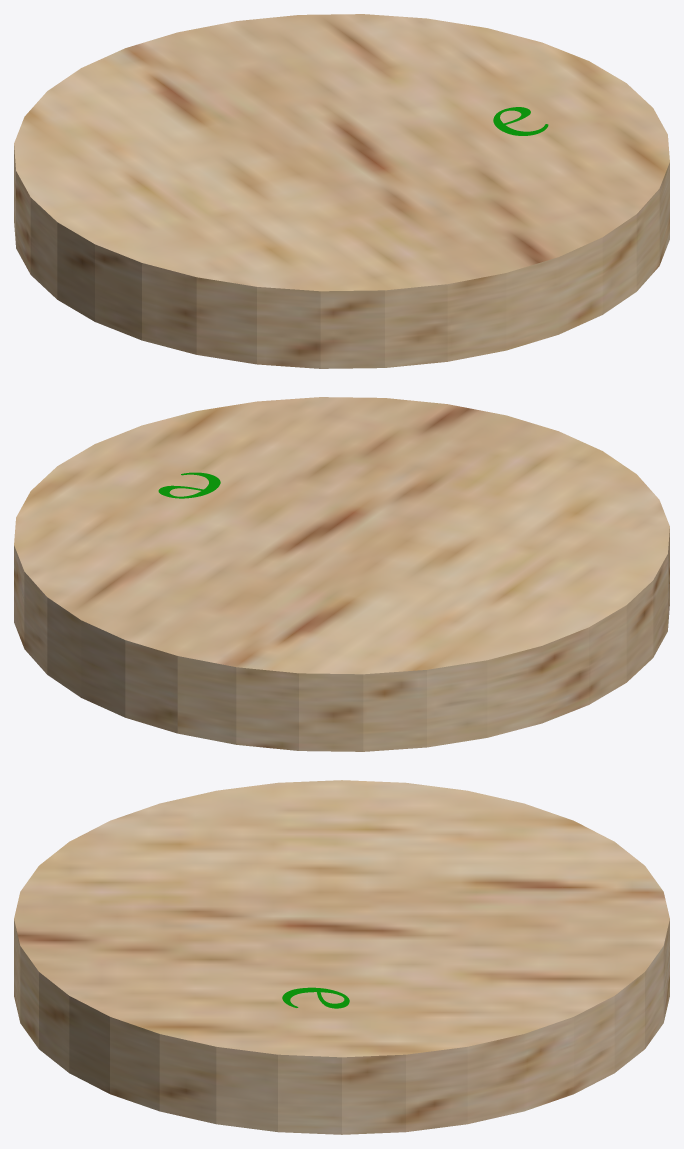
The picture shows the model from 3 angles, top to bottom: view 1: azimuth 30°, elevation 25°; view 2: azimuth 150°, elevation 25°; view 3: azimuth 270°, elevation 25°; orthographic projection.
Visible parts, largest first — view 1: Cube, Curve.445; view 2: Cube, Curve.445; view 3: Cube, Curve.445.
Boxes of the visible parts, x1=… form: Cube: x1=14, y1=14, x2=669, y2=368; Curve.445: x1=493, y1=107, x2=548, y2=135; Cube: x1=14, y1=397, x2=669, y2=751; Curve.445: x1=158, y1=472, x2=220, y2=498; Cube: x1=14, y1=780, x2=669, y2=1134; Curve.445: x1=282, y1=987, x2=349, y2=1008.
Size of the model in its own units: 0.0625 by 0.00822 by 0.0625.
8 materials, 1 textured.
